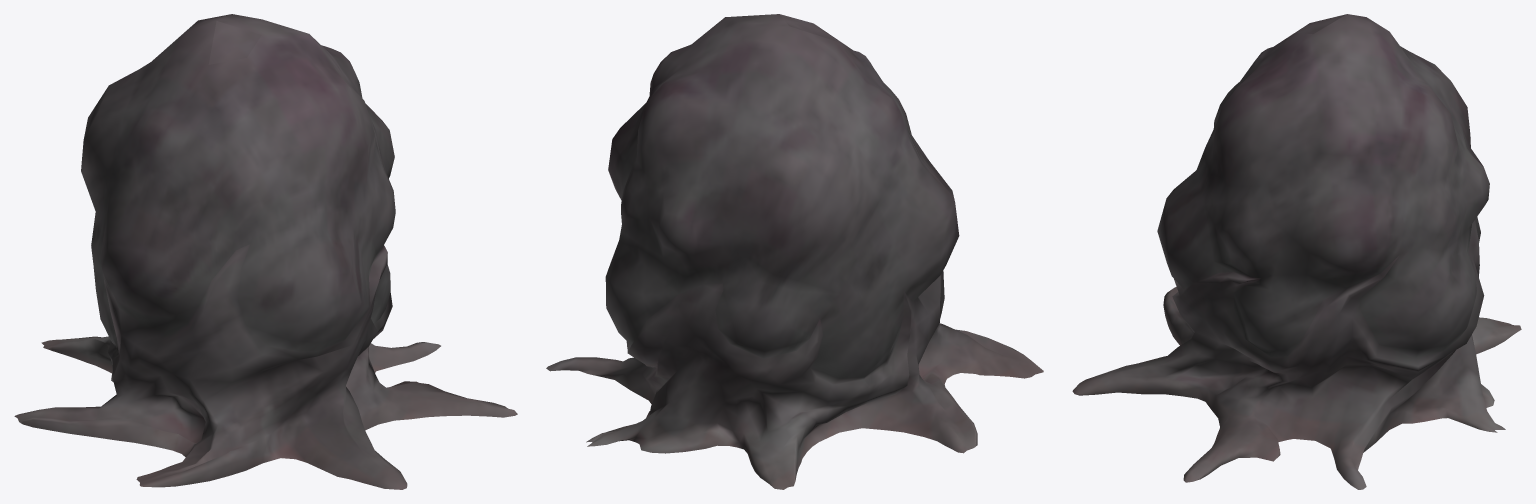
File: Cocoon (32).fbx
The picture shows the model from 3 angles, left to right: view 1: azimuth 30°, elevation 25°; view 2: azimuth 150°, elevation 25°; view 3: azimuth 270°, elevation 25°; orthographic projection. The views are drawn at different scales.
Visible parts, largest first — view 1: Egg; view 2: Egg; view 3: Egg.
Part boxes in pixels (bbox=[...]): Egg: bbox=[14, 14, 517, 489]; Egg: bbox=[546, 14, 1043, 489]; Egg: bbox=[1072, 14, 1521, 489].
Bounding box in the file's own units: 2.69 × 2.36 × 2.6.
Materials: 1 (1 with a texture image).
